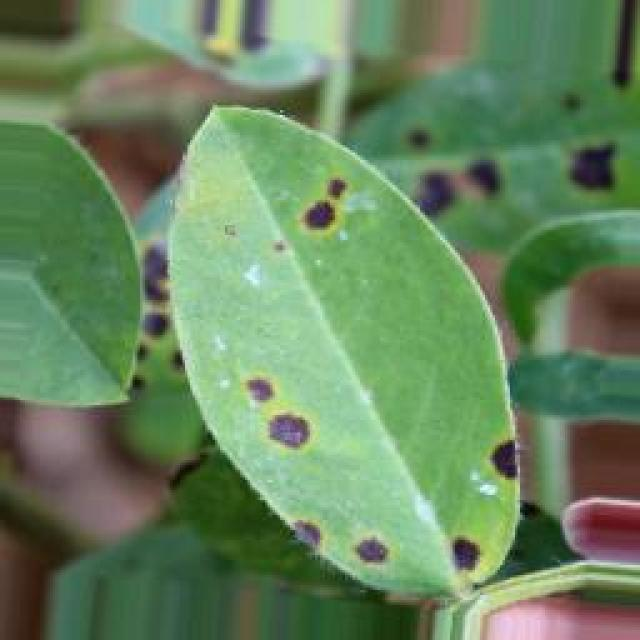Early_leaf_spot: (433, 425, 529, 588), (122, 219, 204, 402), (274, 142, 372, 270), (256, 467, 392, 557), (240, 343, 318, 454), (138, 393, 221, 491), (410, 123, 496, 205), (570, 120, 640, 212)
